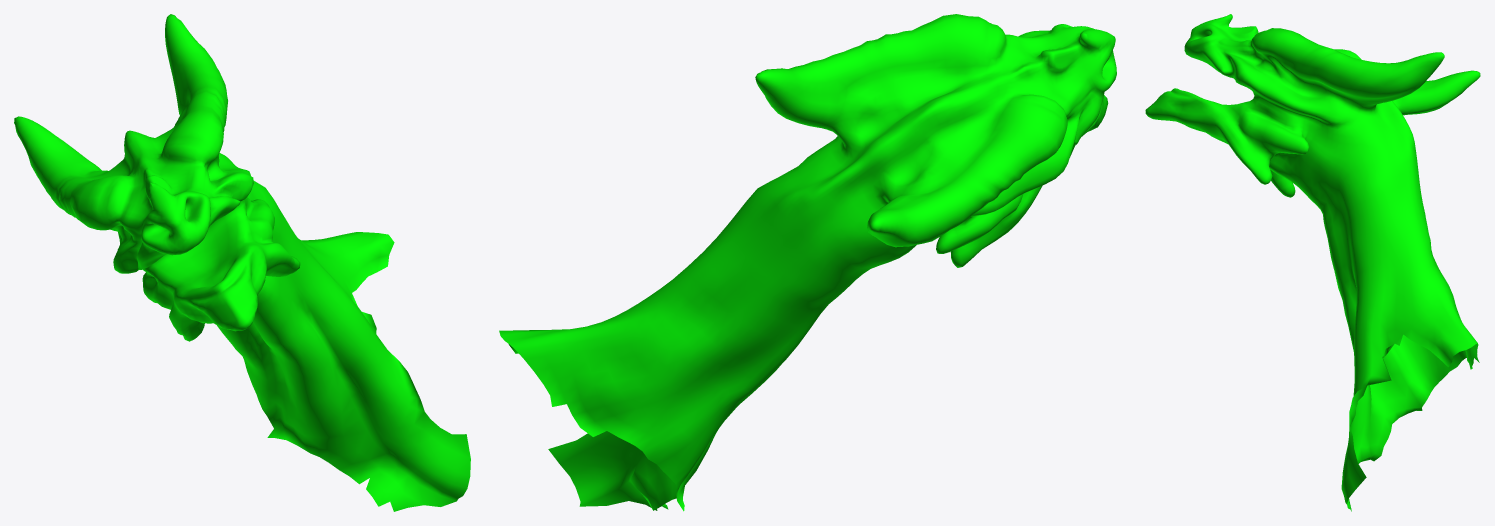
File: cabeza_supIzq.obj
3 renders of one model, left to right at view 1: azimuth 30°, elevation 25°; view 2: azimuth 150°, elevation 25°; view 3: azimuth 270°, elevation 25°, orthographic. The views are drawn at different scales.
Visible parts, largest first — view 1: cabeza_supIzq; view 2: cabeza_supIzq; view 3: cabeza_supIzq.
Boxes of the visible parts, x1,y1,x2,y2 form: cabeza_supIzq: (14,14,470,511); cabeza_supIzq: (499,14,1116,511); cabeza_supIzq: (1145,14,1480,511).
Size of the model in its own units: 2.45 by 2.72 by 2.2.
Materials: 1 (1 with a texture image).
